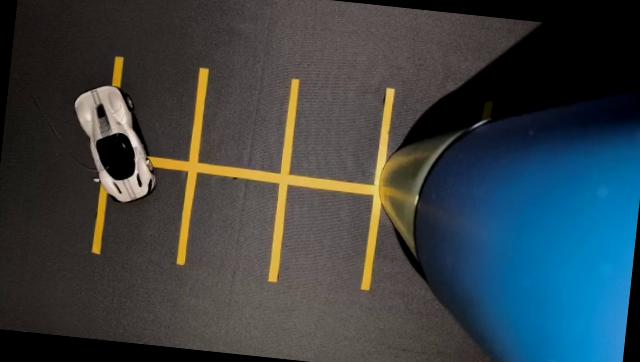toy_car: (51, 53, 186, 225)
